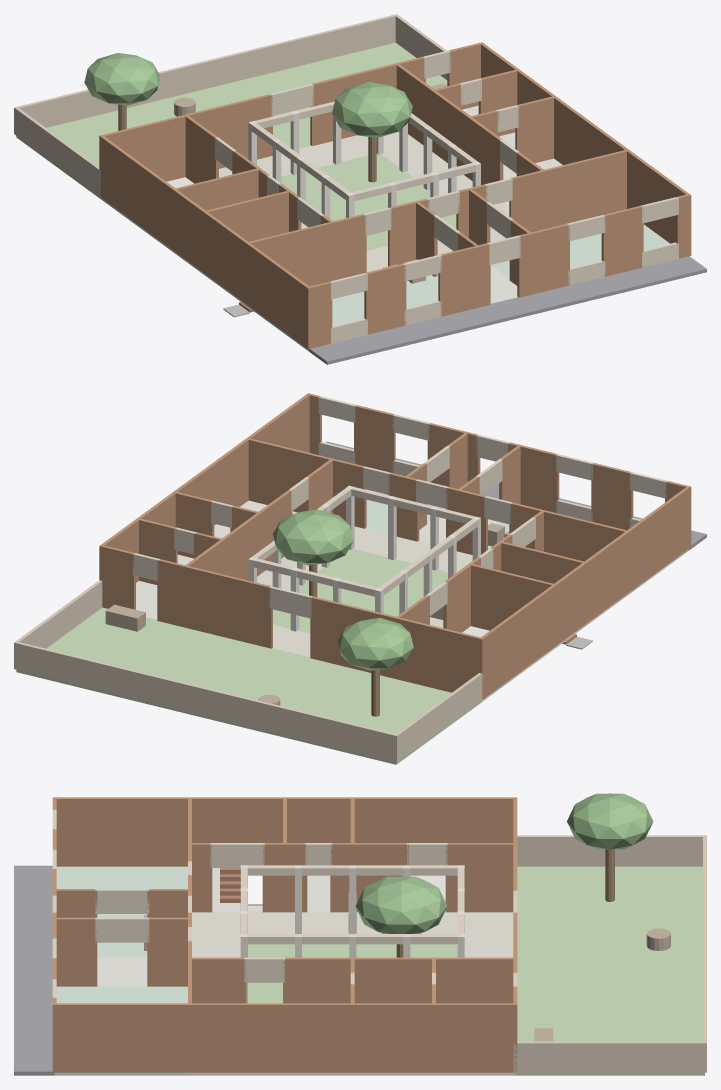
The picture shows the model from 3 angles, top to bottom: view 1: azimuth 30°, elevation 25°; view 2: azimuth 150°, elevation 25°; view 3: azimuth 270°, elevation 25°; orthographic projection. The views are drawn at different scales.
Parts seen in each view (by area): view 1: n0_muro_20, n0_barda_50, n0_piso_traspatio_0, n0_piso_calle_0, n0_muro_10, n0_muro_31, n0_muro_17, n0_muro_7, n0_muro_30, n0_piso_patio_0, n0_arbol_copa, n0_muro_4 (+47 smaller); view 2: n0_piso_traspatio_0, n0_muro_20, n0_barda_50, n0_muro_17, n0_muro_18, n0_muro_31, n0_muro_10, n0_piso_patio_0, n0_muro_30, n0_arbol_copa, n0_muro_12, n0_muro_7 (+38 smaller); view 3: n0_piso_traspatio_0, n0_muro_31, n0_muro_20, n0_muro_30, n0_piso_calle_0, n0_barda_52, n0_barda_51, n0_muro_24, n0_arbol_copa, n0_piso_salon_0, n0_mamey_copa, n0_piso_patio_0 (+32 smaller).
Part boxes in pixels (x1,y1,x2,y2): n0_muro_20: [99, 135, 310, 348]; n0_barda_50: [14, 14, 398, 134]; n0_piso_traspatio_0: [16, 42, 447, 199]; n0_piso_calle_0: [309, 256, 706, 364]; n0_muro_10: [509, 149, 629, 232]; n0_muro_31: [479, 42, 690, 243]; n0_muro_17: [100, 94, 272, 181]; n0_muro_7: [245, 214, 366, 303]; n0_muro_30: [396, 63, 503, 184]; n0_piso_patio_0: [281, 154, 456, 250]; n0_arbol_copa: [332, 82, 412, 137]; n0_muro_4: [517, 224, 569, 297]; n0_piso_traspatio_0: [16, 607, 481, 764]; n0_muro_20: [479, 486, 691, 699]; n0_barda_50: [14, 641, 398, 762]; n0_muro_17: [310, 596, 483, 698]; n0_muro_18: [157, 559, 272, 648]; n0_muro_31: [101, 393, 309, 582]; n0_muro_10: [246, 437, 366, 528]; n0_piso_patio_0: [273, 549, 447, 633]; n0_muro_30: [183, 489, 292, 627]; n0_arbol_copa: [273, 509, 353, 565]; n0_muro_12: [471, 564, 557, 645]; n0_muro_7: [509, 502, 629, 592]; n0_piso_traspatio_0: [515, 866, 704, 1075]; n0_muro_31: [52, 1003, 516, 1072]; n0_muro_20: [53, 797, 516, 866]; n0_muro_30: [283, 957, 517, 1003]; n0_piso_calle_0: [14, 865, 54, 1075]; n0_barda_52: [513, 1041, 706, 1072]; n0_barda_51: [517, 835, 706, 866]; n0_muro_24: [445, 843, 514, 912]; n0_arbol_copa: [355, 876, 447, 933]; n0_piso_salon_0: [56, 866, 187, 957]; n0_mamey_copa: [567, 793, 653, 849]; n0_piso_patio_0: [248, 944, 457, 1002].
Bounding box in the file's own units: 36.3 × 11.54 × 51.15.
